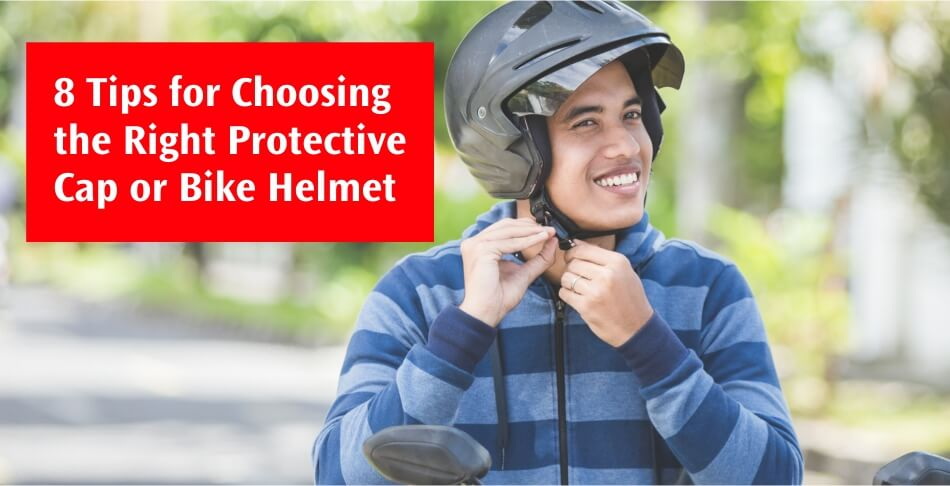helmets: (443, 0, 683, 200)
